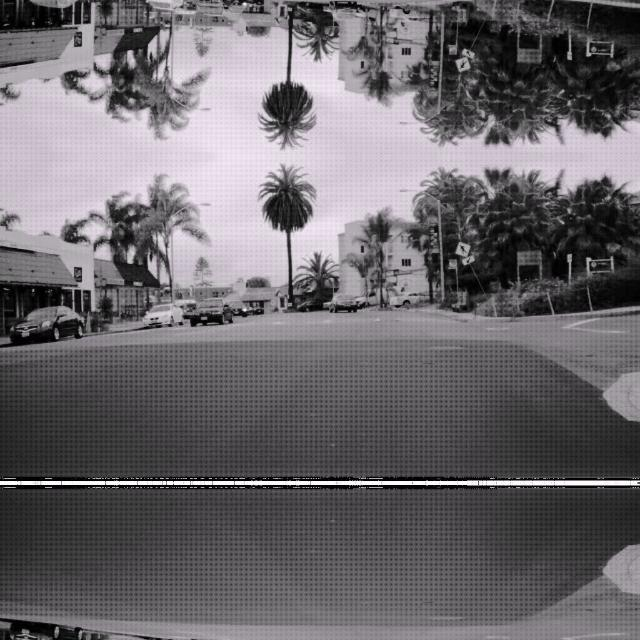pedestrianCrossing: (454, 240, 470, 256), (454, 56, 470, 72)
